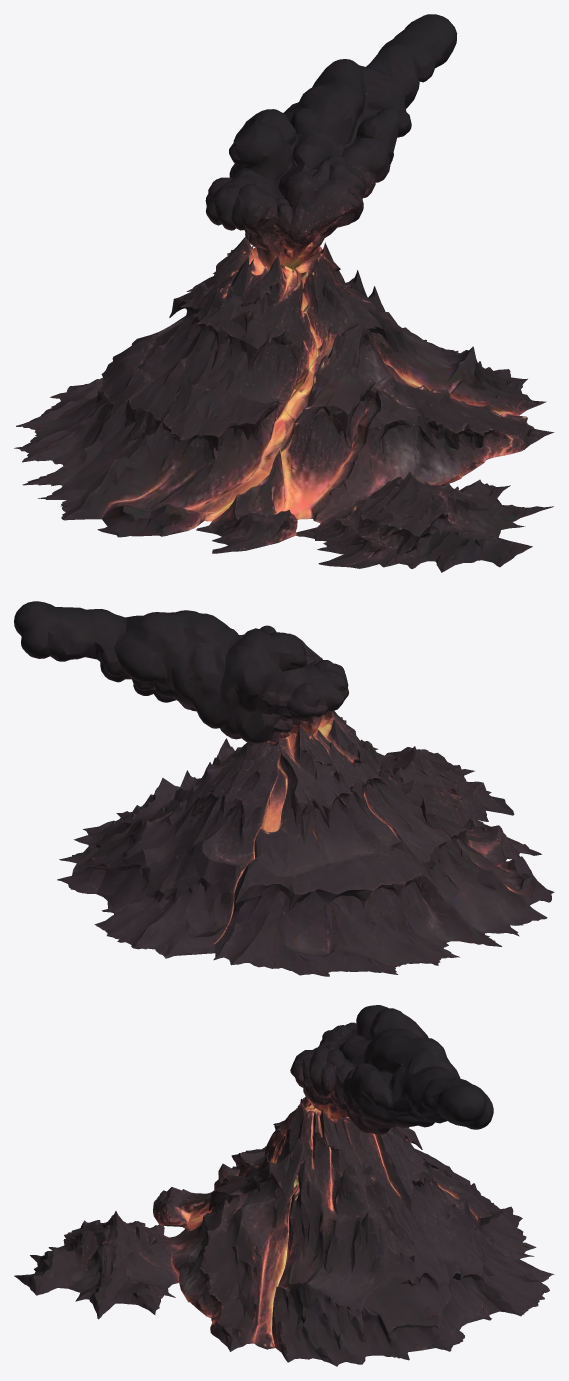
File: volcano.glb
3 views of the same model, one above another, from view 1: azimuth 30°, elevation 25°; view 2: azimuth 150°, elevation 25°; view 3: azimuth 270°, elevation 25° (orthographic). The views are drawn at different scales.
Visible parts, largest first — view 1: output_unwrapped; view 2: output_unwrapped; view 3: output_unwrapped.
Part boxes in pixels (<box>): output_unwrapped: <box>14,14,554,572</box>; output_unwrapped: <box>14,601,554,976</box>; output_unwrapped: <box>14,1005,554,1366</box>.
Size of the model in its own units: 1.74 by 1.05 by 1.9.
Materials: 1 (1 with a texture image).
